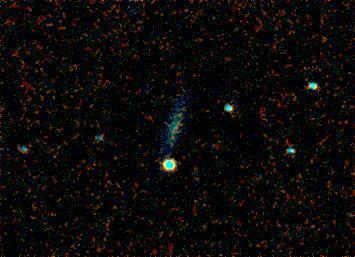star: (165, 100, 195, 130)
